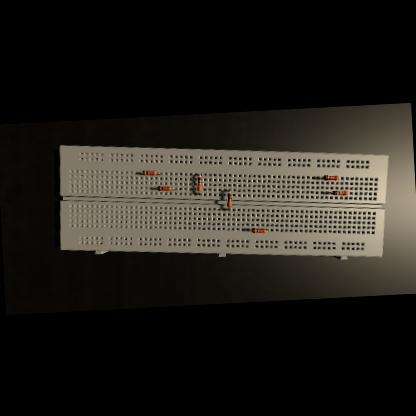breadboard: (55, 127, 392, 273)
resistor: (323, 174, 338, 180), (332, 189, 347, 195), (142, 169, 156, 175), (157, 184, 171, 190), (226, 192, 232, 206), (251, 226, 265, 232), (197, 176, 202, 190)
wire: (316, 176, 322, 178), (157, 172, 161, 174), (247, 228, 251, 230), (198, 191, 200, 194), (139, 170, 141, 172), (198, 174, 200, 176), (228, 190, 230, 192), (227, 207, 229, 209), (155, 187, 157, 188), (265, 228, 266, 230), (172, 188, 176, 188)
